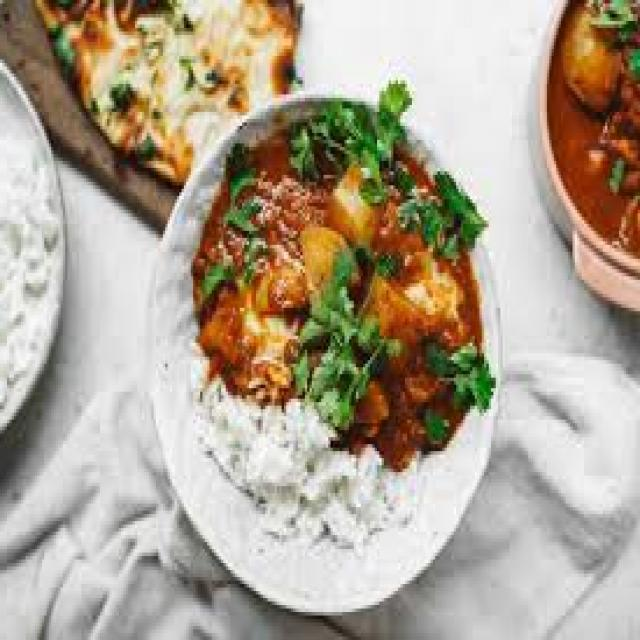Butter Chicken: (183, 129, 504, 441)
